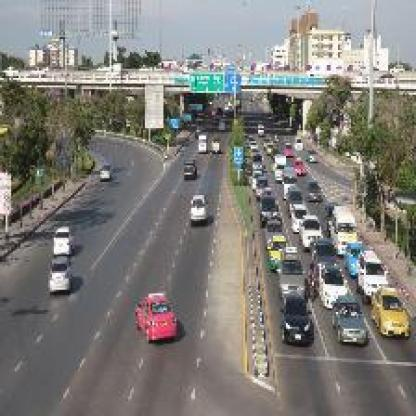other: (122, 288, 182, 341), (367, 284, 410, 344)
